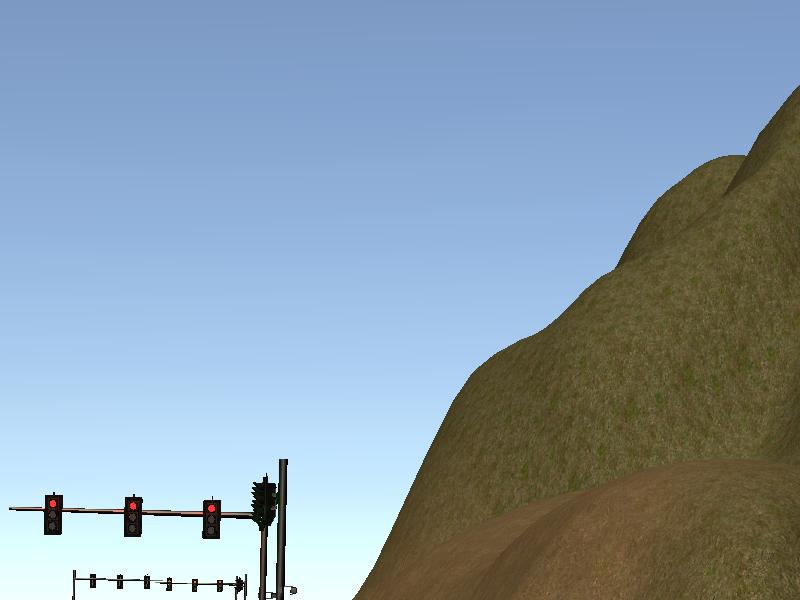Red: (45, 492, 62, 535), (124, 495, 142, 535), (202, 499, 220, 538)
